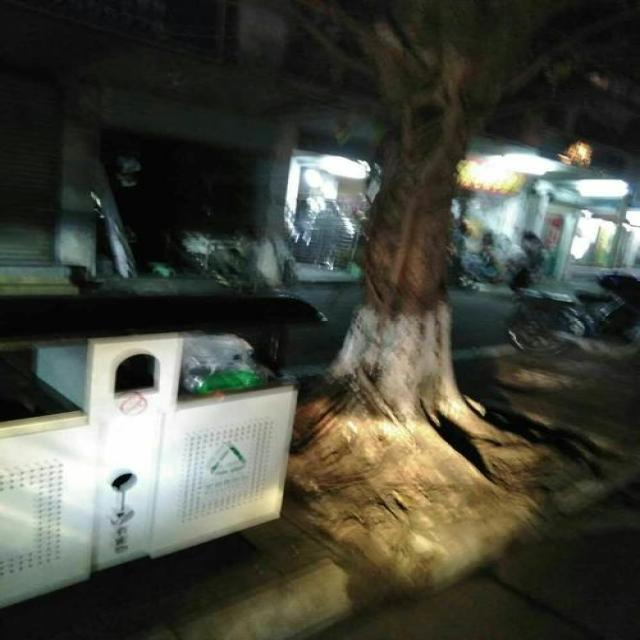overflow: (0, 292, 323, 610)
